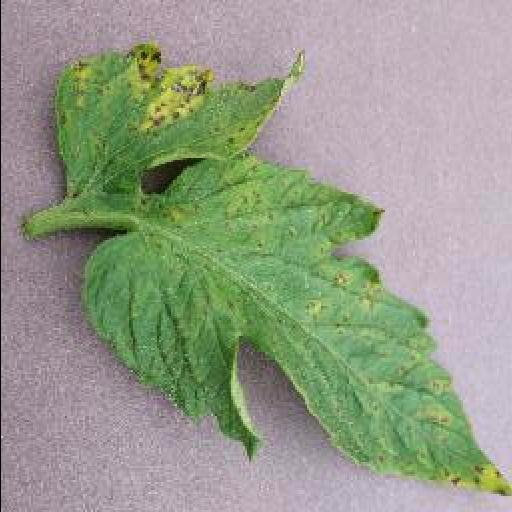disease_tomato: (60, 48, 512, 496)
